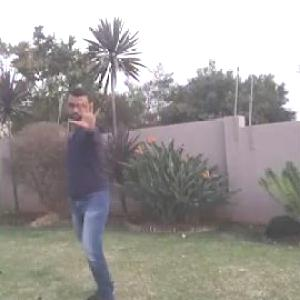follow_hand: (68, 95, 106, 134)
